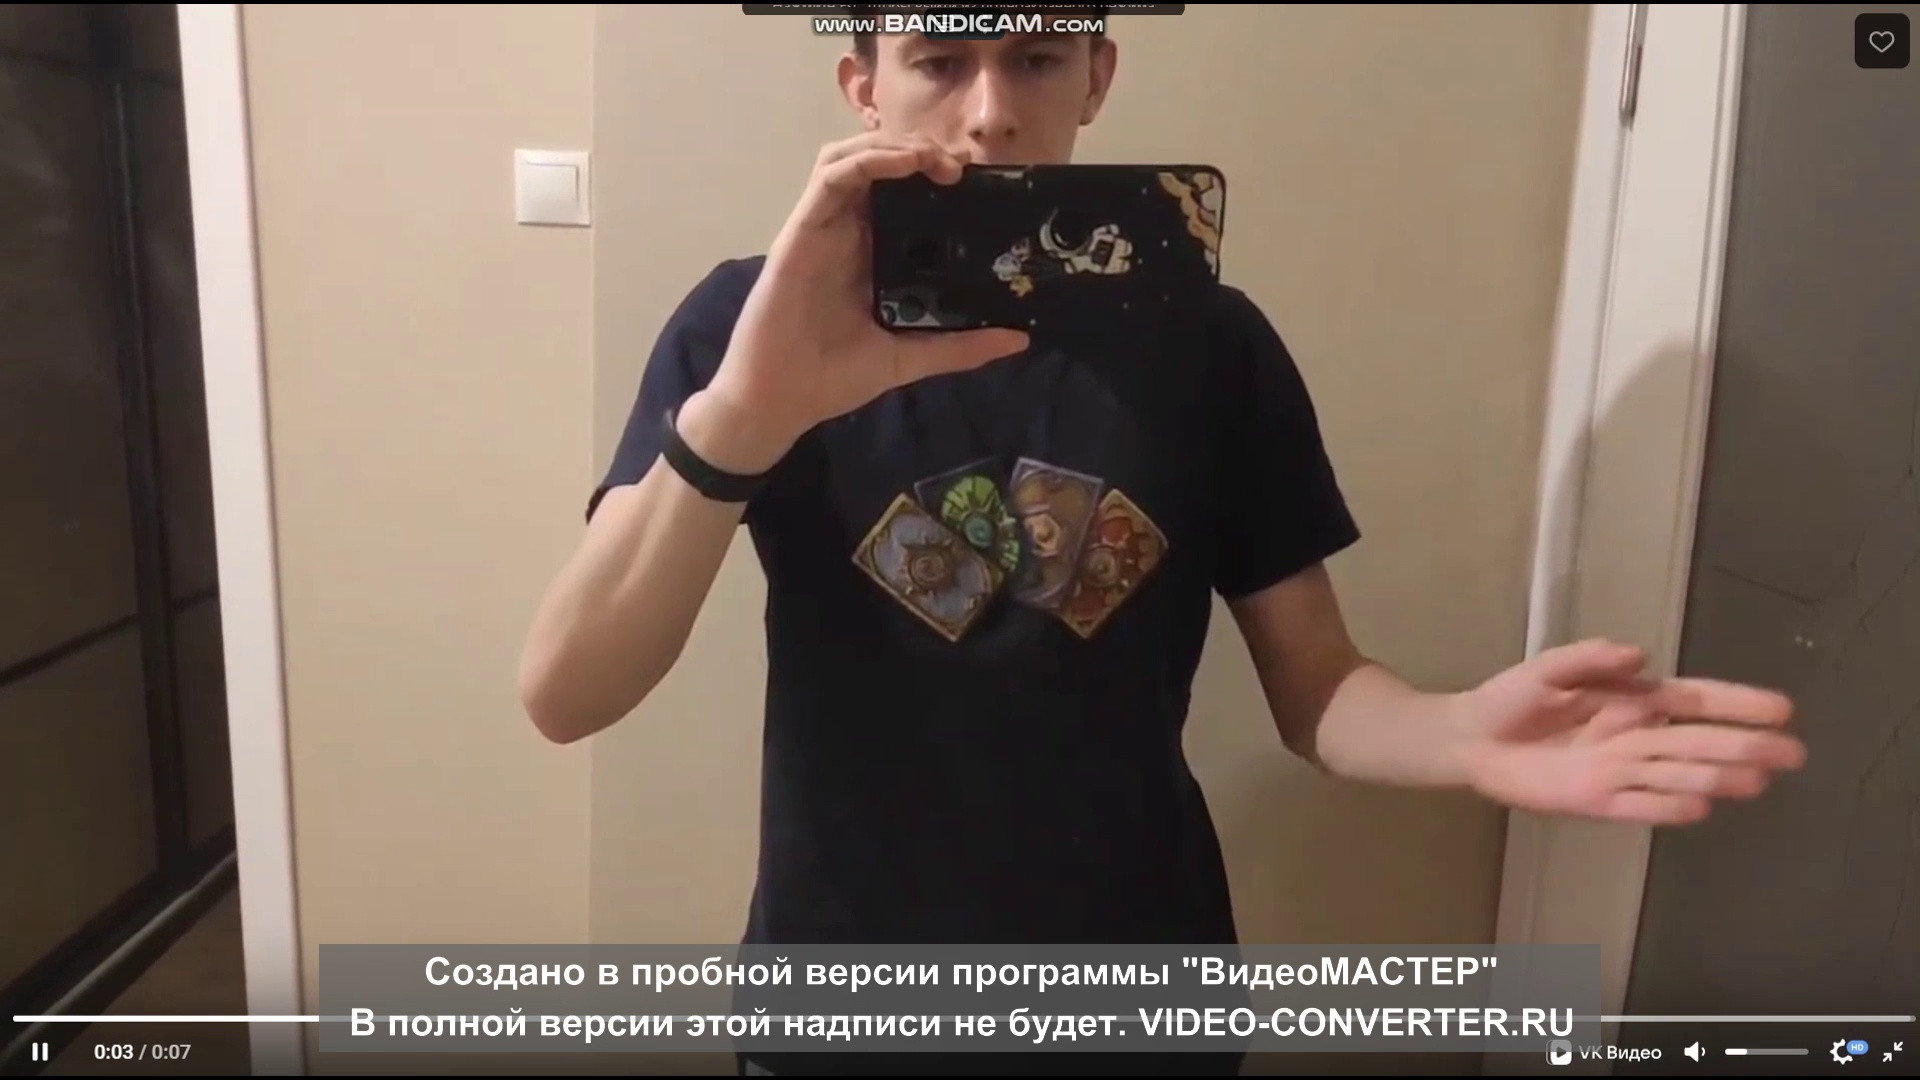Ладонь: (1478, 640, 1811, 825)
